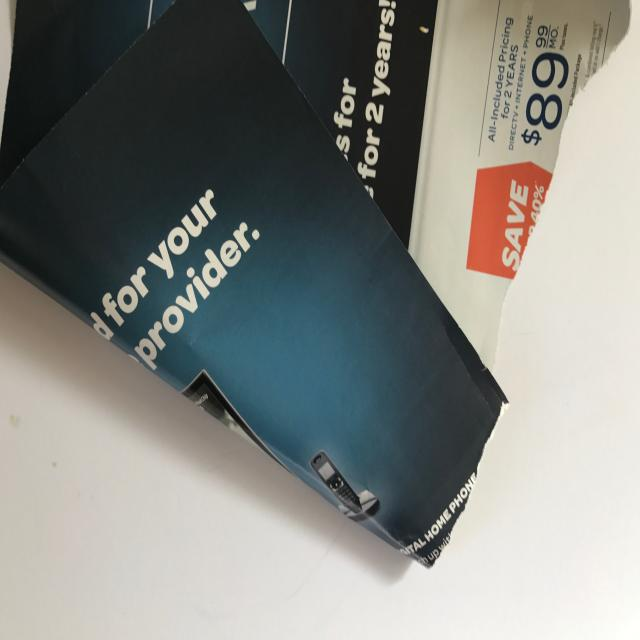Paper: (0, 0, 633, 567)
